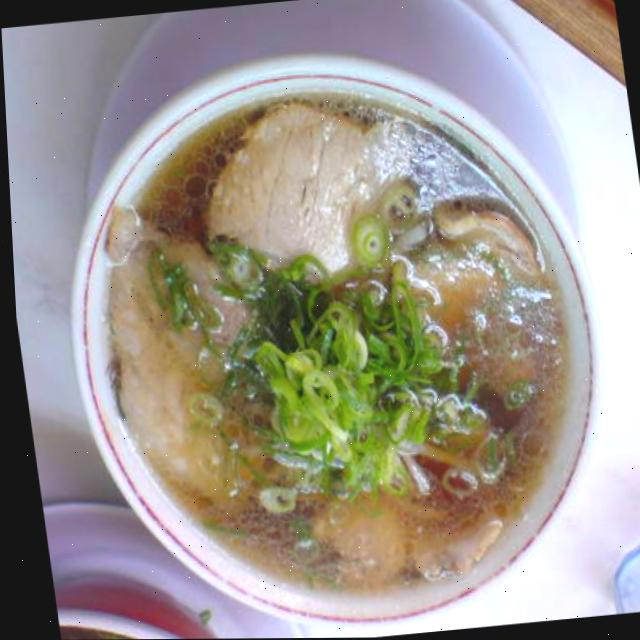面条主食: (23, 0, 640, 640)
